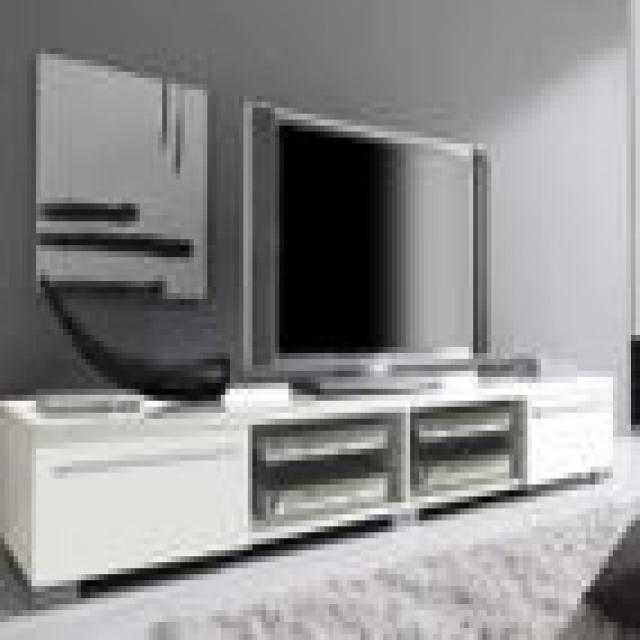others: (235, 108, 510, 382)
